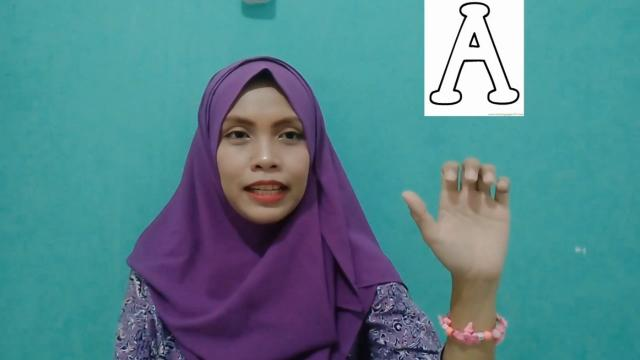A: (402, 154, 512, 288)
